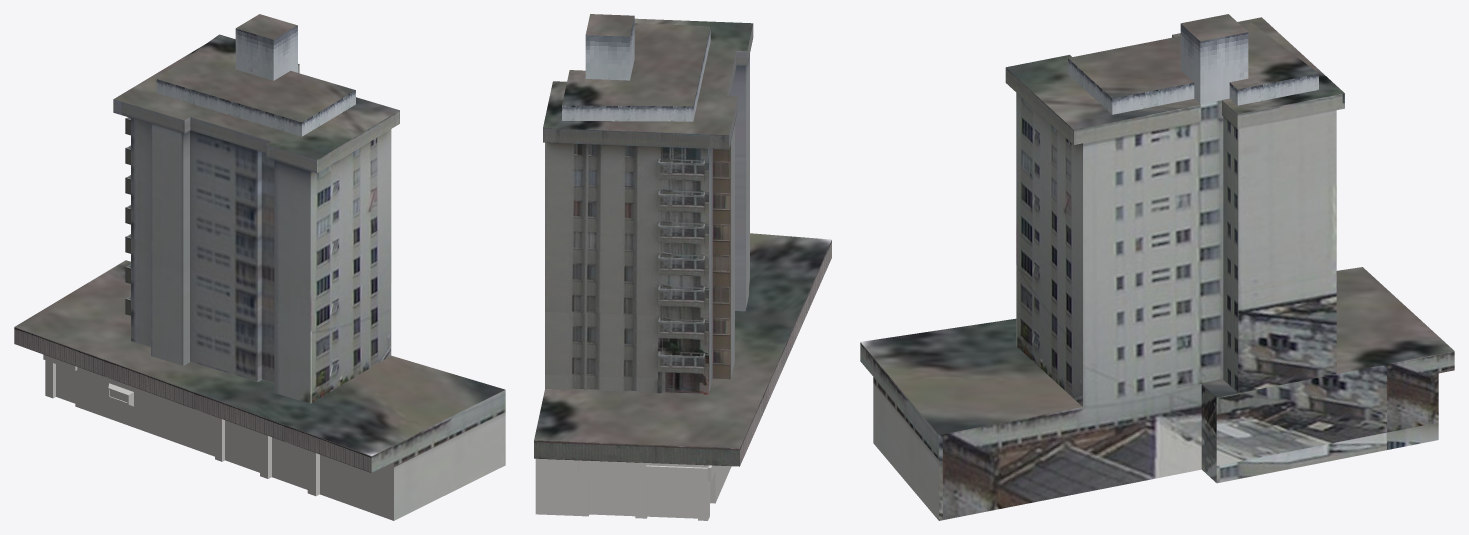
File: edificio2.fbx
3 renders of one model, left to right at view 1: azimuth 30°, elevation 25°; view 2: azimuth 150°, elevation 25°; view 3: azimuth 270°, elevation 25°, orthographic. The views are drawn at different scales.
Visible parts, largest first — view 1: Model; view 2: Model, Group4, Group5, Group1, Group2, Group6, Group7, Group3; view 3: Model.
Boxes of the visible parts, x1,y1,x2,y2 form: Model: (14,14,505,520); Model: (534,14,831,520); Group4: (658,190,705,212); Group5: (658,317,705,339); Group1: (658,254,705,276); Group2: (658,222,705,244); Group6: (658,351,705,373); Group7: (658,285,705,307); Group3: (658,159,705,181); Model: (860,14,1454,520).
Bounding box in the file's own units: 32.06 × 38.08 × 47.89.
